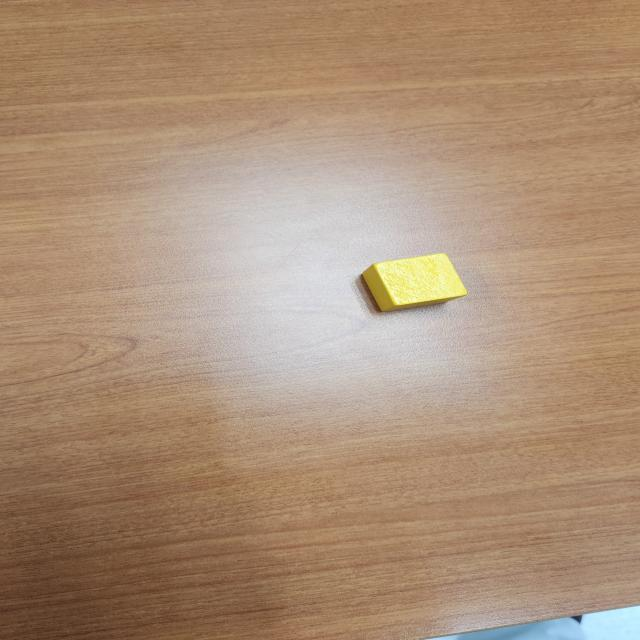yellow: (358, 254, 468, 314)
